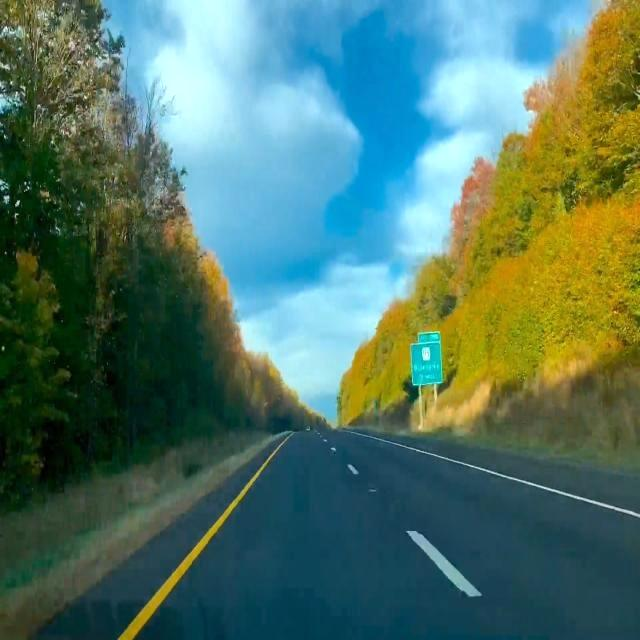lane: (117, 434, 290, 639), (348, 432, 640, 518), (406, 531, 481, 597)
road: (138, 431, 639, 639)
